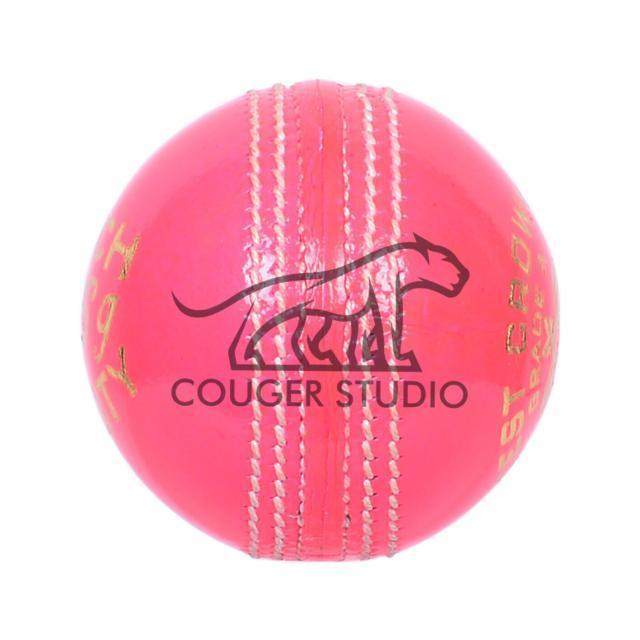cricket ball: (80, 79, 561, 563)
